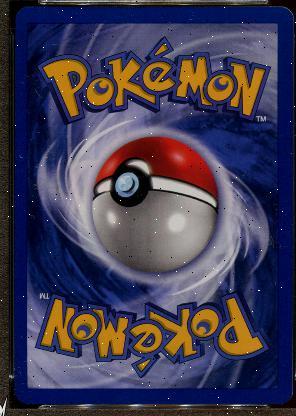Card: (11, 4, 293, 406)
Scratch: (12, 364, 25, 392), (185, 10, 200, 22), (33, 87, 43, 99), (270, 203, 276, 223), (276, 240, 285, 250), (267, 234, 273, 248), (28, 212, 36, 220), (18, 152, 24, 160), (19, 332, 24, 340), (22, 74, 31, 78), (121, 9, 128, 13), (50, 42, 57, 46), (17, 92, 24, 96), (32, 184, 37, 188), (20, 82, 24, 84), (46, 156, 50, 158)
